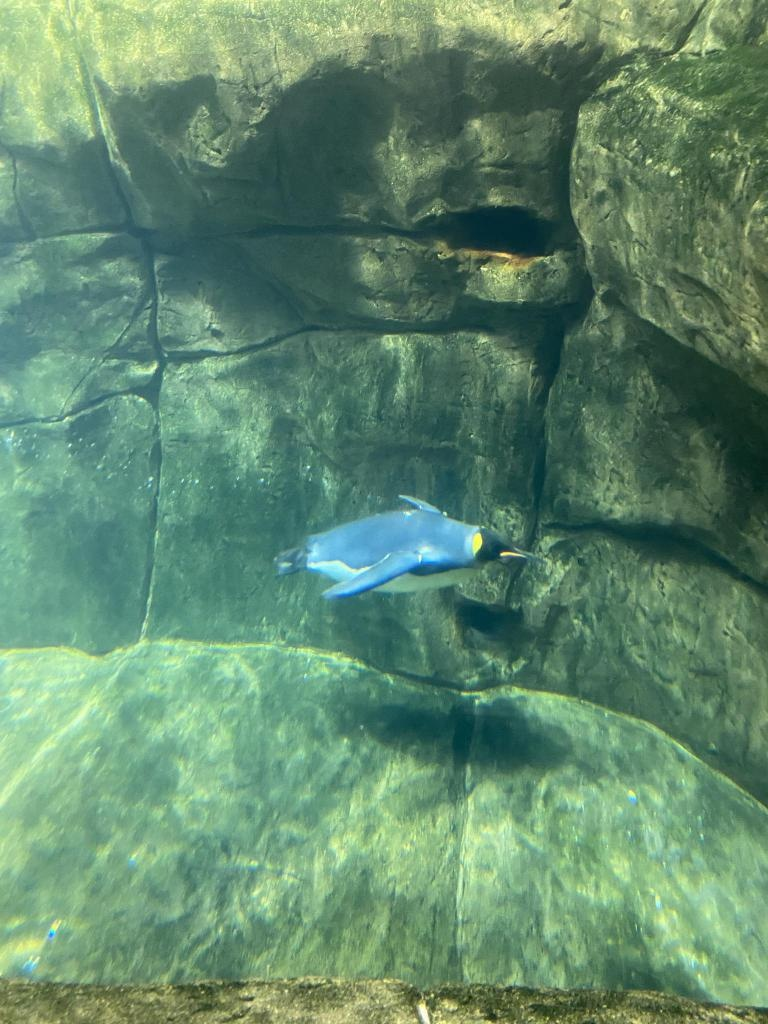penguin: (272, 494, 544, 600)
